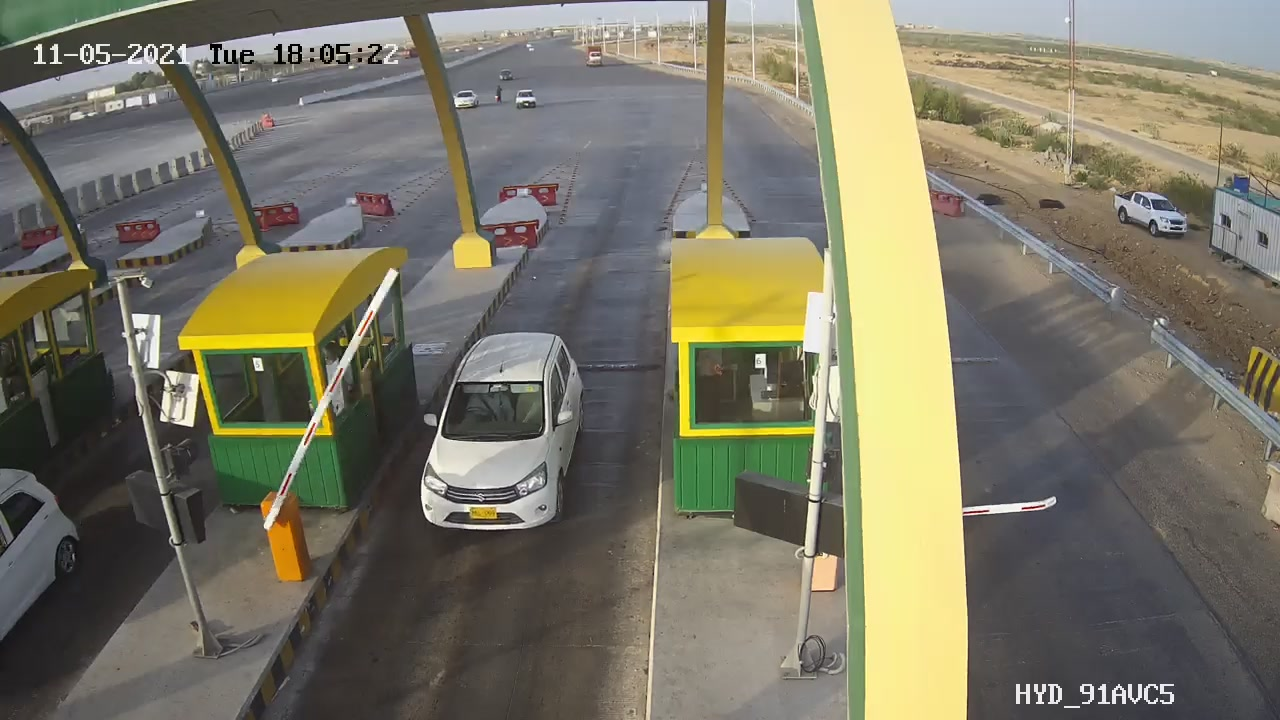F1: (387, 313, 616, 555)
